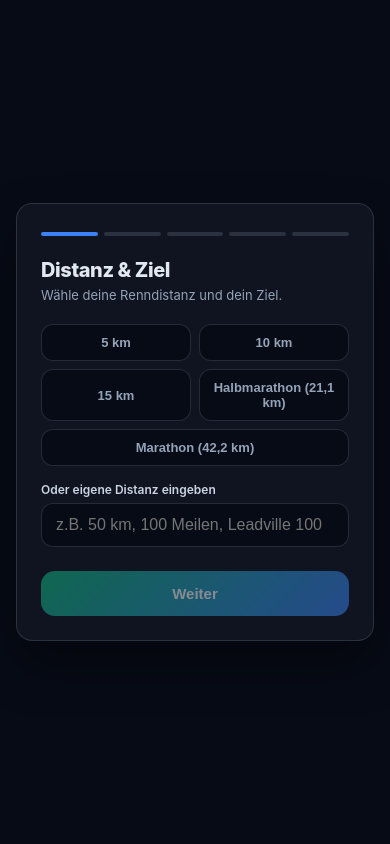
Test: Onboarding — Renndatum ist Pflicht › mit gültigem Renndatum: Hinweis weg, Schritt 2 frei
Click the button "10 km" at (274, 343), box [199,324,349,361]
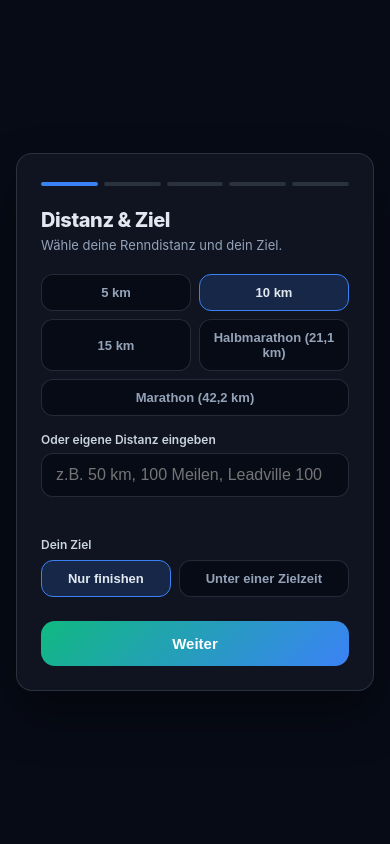
Click the button "Weiter" at (195, 644), box [41,621,349,666]
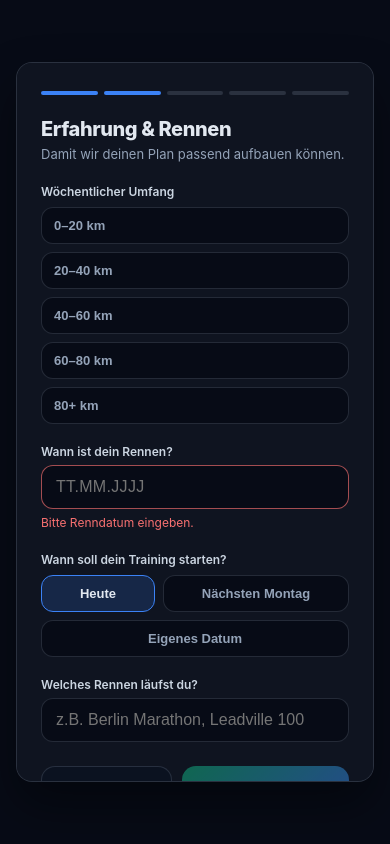
Click the button "0–20 km" at (80, 225), box [41,207,349,244]
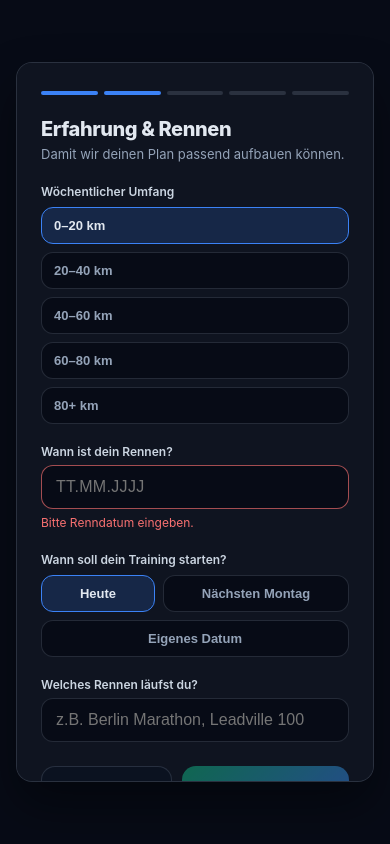
Type "01.01.2099" into the field labelled "Wann ist dein Rennen?" at (195, 487), box [41,465,349,509]
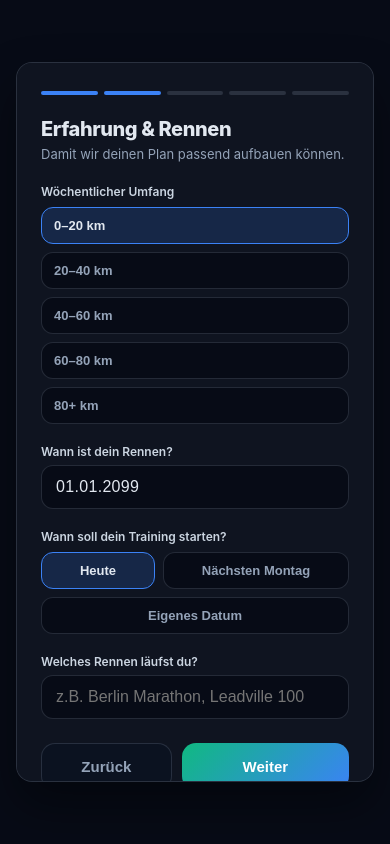
Now the text "Bitte Renndatum eingeben." is gone
Now the button "Weiter" is enabled, box [182,743,349,782]
